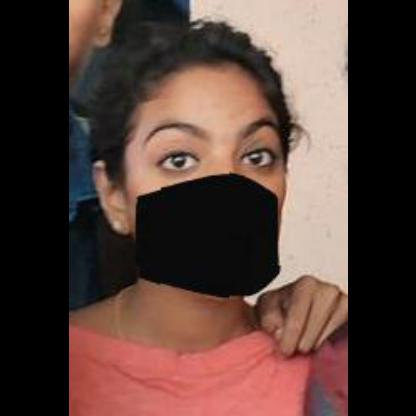Fabric/Cloth Mask: (127, 106, 280, 288)
